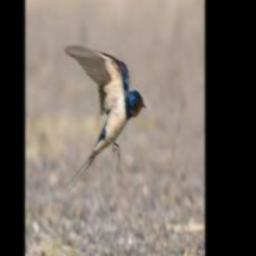Swallow: (65, 44, 146, 190)
